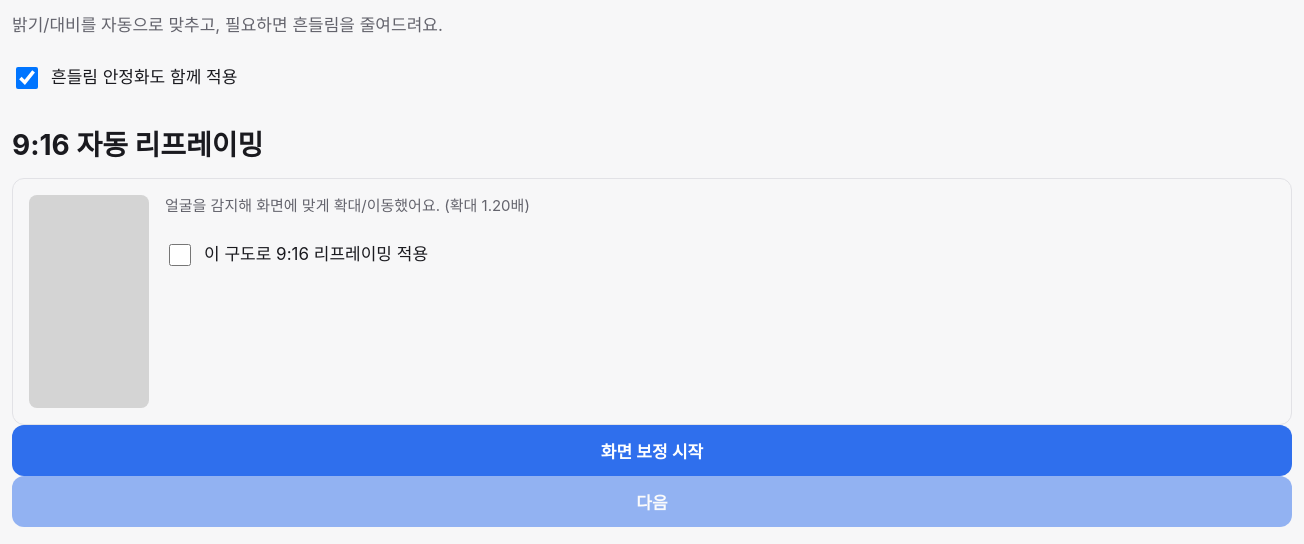
Step5Correction - 9:16 자동 리프레이밍 › 체크박스를 켜면 승인 API를 호출한다
The width and height of the screenshot is (1304, 544).
Expected: the text "얼굴을 감지해 화면에 맞게 확대/이동했어요. (확대 1.20배)" is shown, [165,196,530,214]
Click the checkbox labelled "이 구도로 9:16 리프레이밍 적용" at (180, 255), box [169,244,191,266]
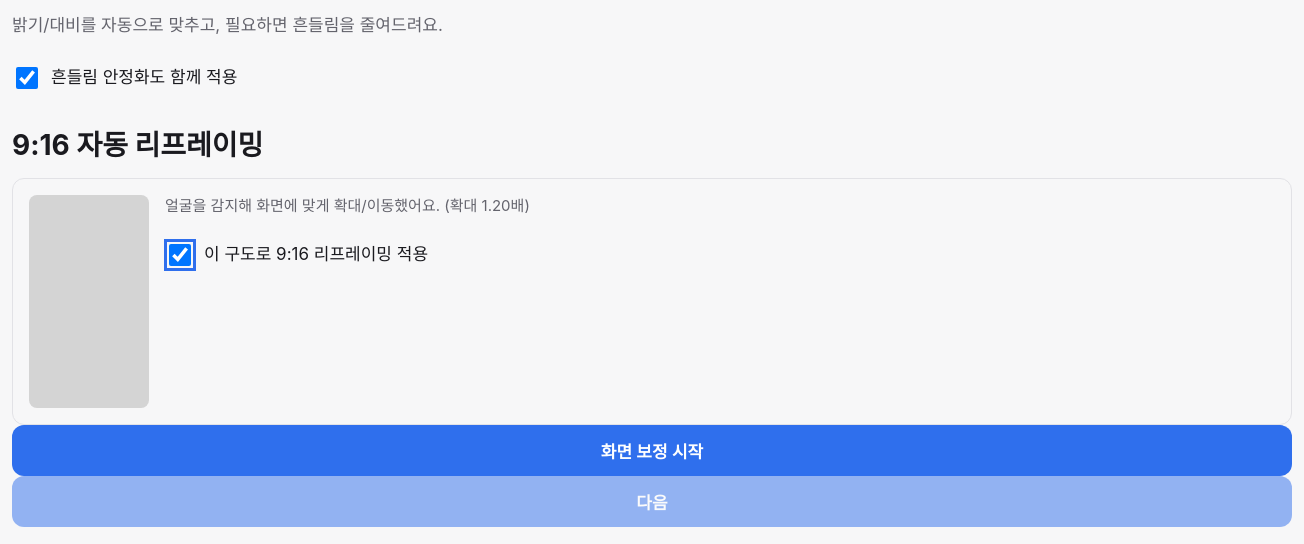
Result: the checkbox labelled "이 구도로 9:16 리프레이밍 적용" is checked at [169,244,191,266]
